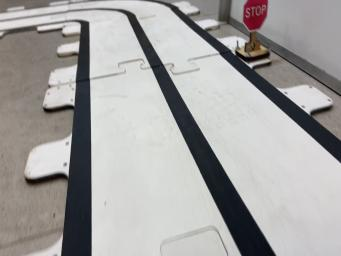stop: (235, 0, 270, 60), (235, 0, 270, 60), (235, 0, 270, 60), (235, 0, 270, 60), (235, 0, 270, 60), (235, 0, 270, 60)
street: (64, 2, 341, 255), (64, 2, 341, 255), (64, 2, 341, 255), (64, 2, 341, 255), (64, 2, 341, 255), (64, 2, 341, 255)
